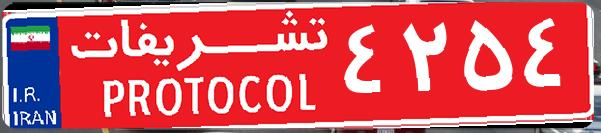2: (400, 20, 460, 115)
4: (340, 20, 400, 115), (520, 20, 580, 115)
5: (460, 20, 520, 115)
تشریفات: (60, 8, 340, 125)
